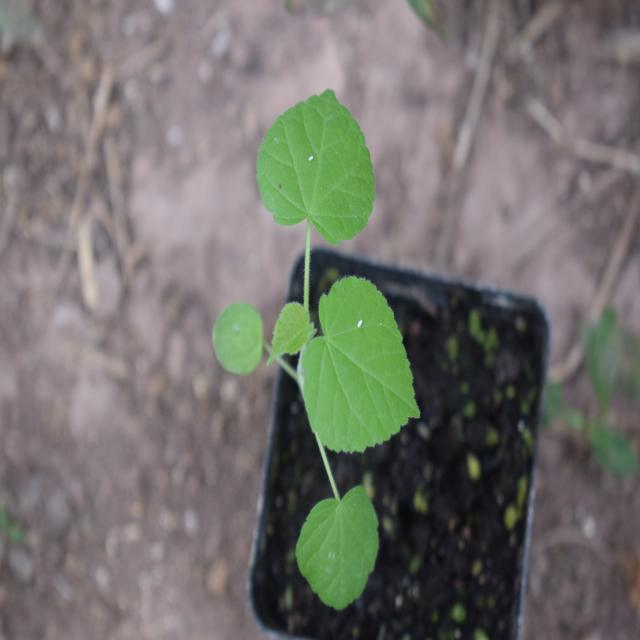abutilon theophrasti: (200, 75, 418, 592)
